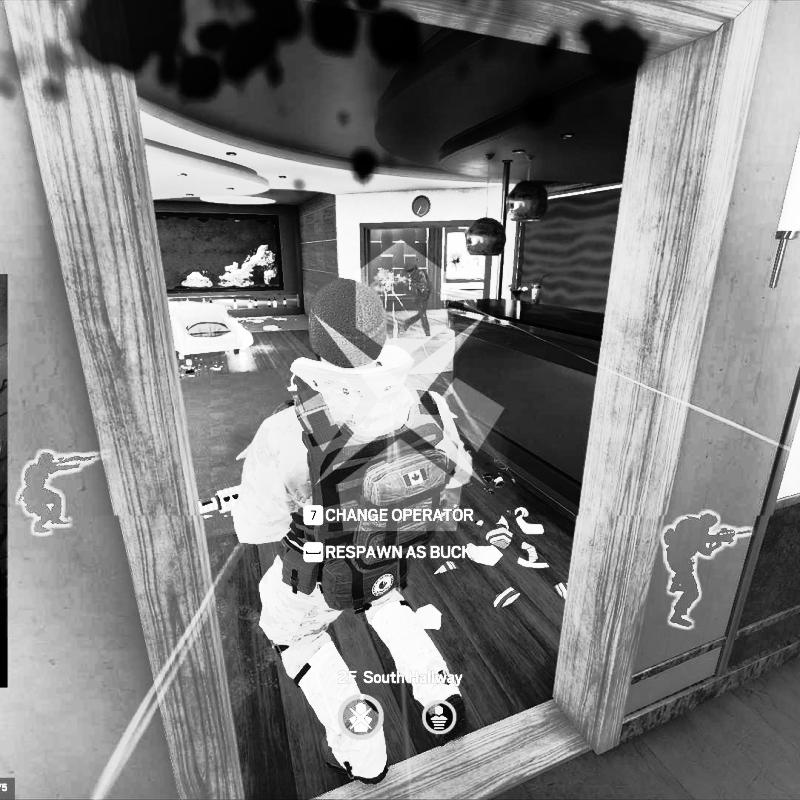Character: (224, 273, 478, 787), (401, 261, 434, 339)
Head: (305, 275, 388, 371), (404, 262, 417, 275)
